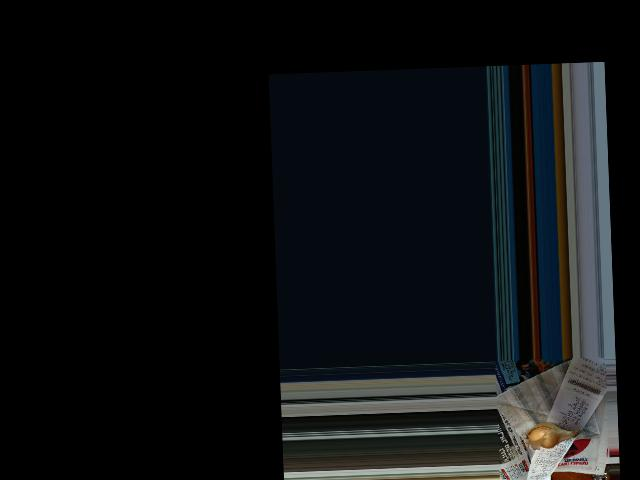onion: (526, 422, 570, 446)
